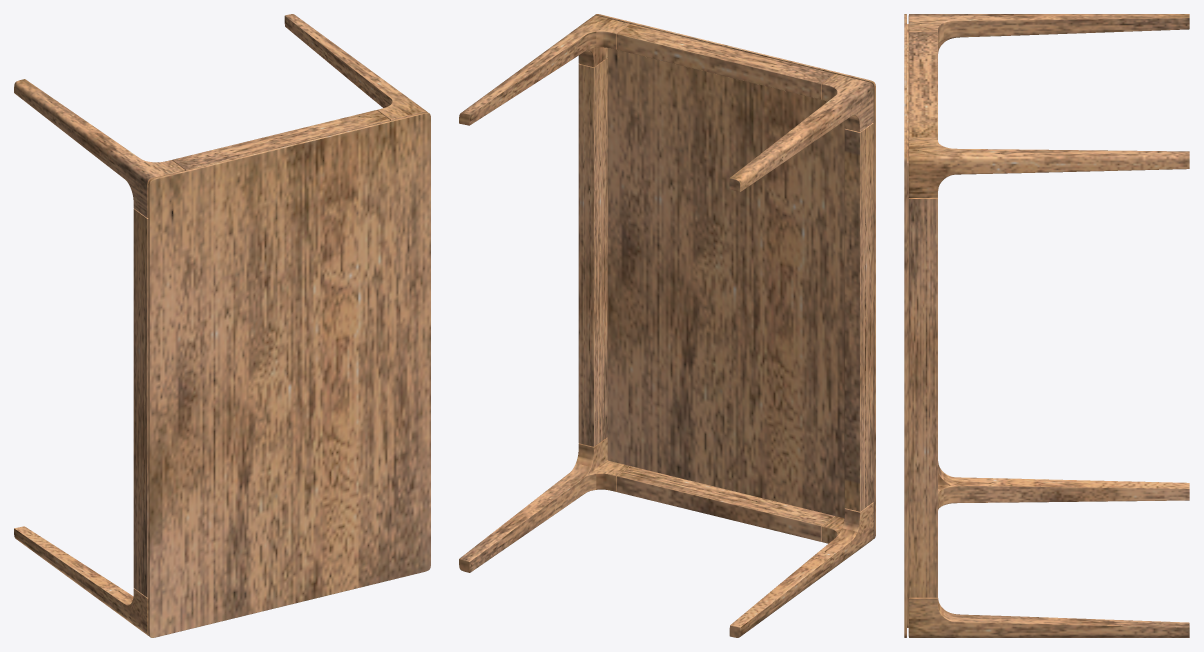
The model's file is SM_Esstisch.obj.
3 renders of one model, left to right at view 1: azimuth 30°, elevation 25°; view 2: azimuth 150°, elevation 25°; view 3: azimuth 270°, elevation 25°, orthographic. The views are drawn at different scales.
Parts seen in each view (by area): view 1: SM_Esstisch; view 2: SM_Esstisch; view 3: SM_Esstisch.
Part boxes in pixels (x1,y1,x2,y2): SM_Esstisch: [14, 14, 430, 637]; SM_Esstisch: [459, 14, 875, 637]; SM_Esstisch: [904, 14, 1189, 637].
Size of the model in its own units: 0.9 by 1.4 by 0.7503.
Materials: 1 (1 with a texture image).
